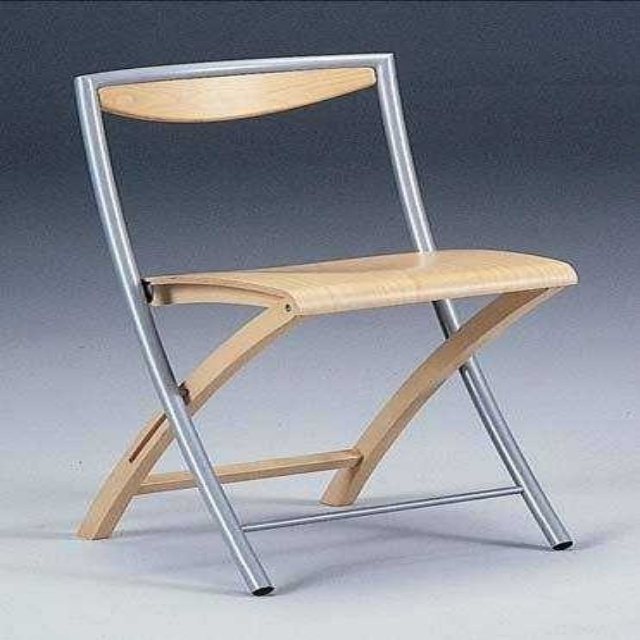obstacle: (76, 54, 576, 594)
